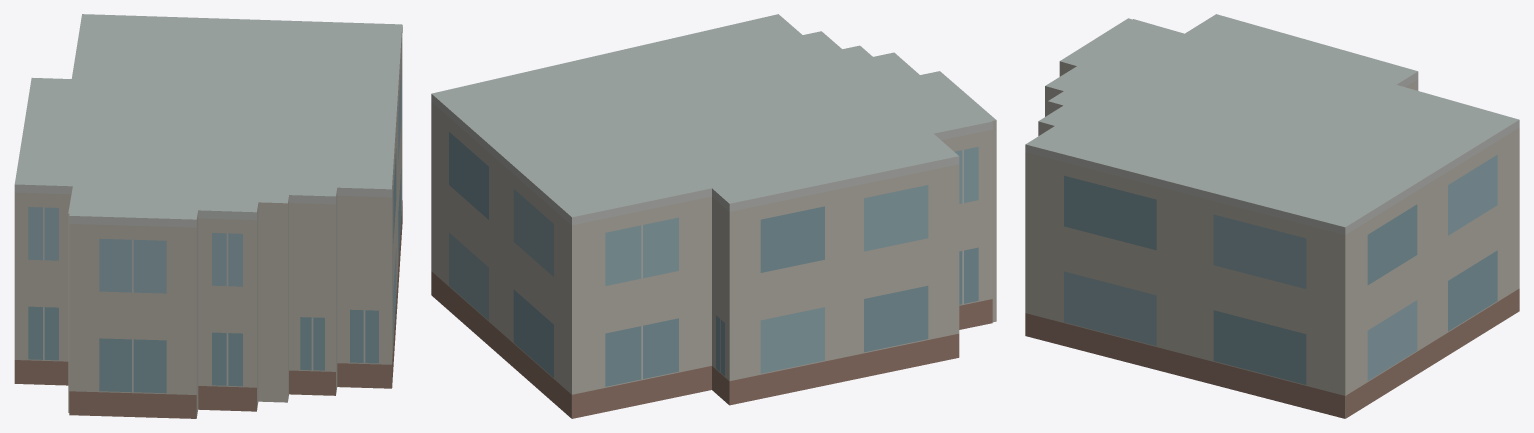
The model's file is survey-upis-33043684.glb.
The picture shows the model from 3 angles, left to right: view 1: azimuth 30°, elevation 25°; view 2: azimuth 150°, elevation 25°; view 3: azimuth 270°, elevation 25°; orthographic projection. The views are drawn at different scales.
Parts seen in each view (by area): view 1: survey-upis-33043684.tmp; view 2: survey-upis-33043684.tmp; view 3: survey-upis-33043684.tmp.
Part boxes in pixels (x1,y1,x2,y2): survey-upis-33043684.tmp: (14,14,402,418); survey-upis-33043684.tmp: (431,14,996,418); survey-upis-33043684.tmp: (1025,14,1519,418).
Size of the model in its own units: 14.58 by 6.1 by 14.27.
